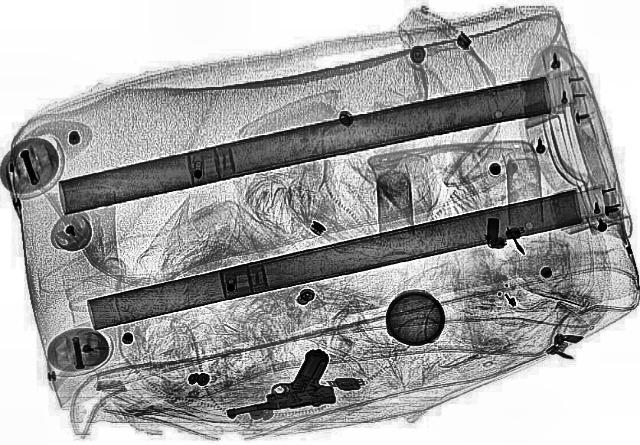Gun: (207, 346, 346, 418)
